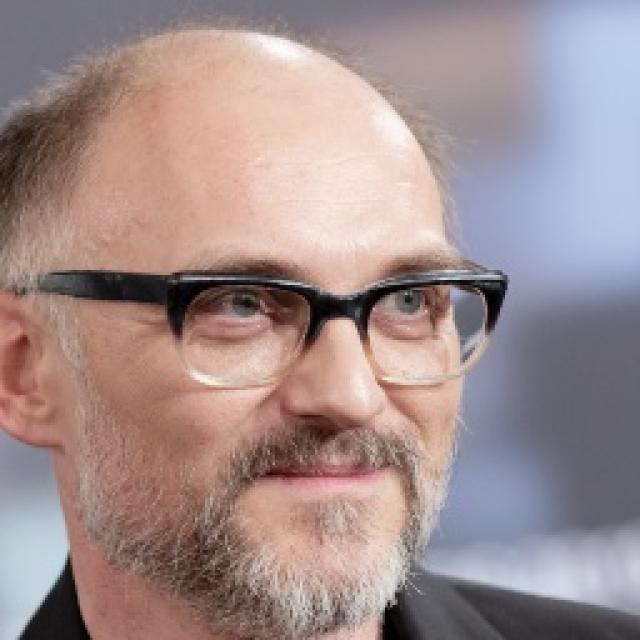glasses: (15, 260, 507, 398)
